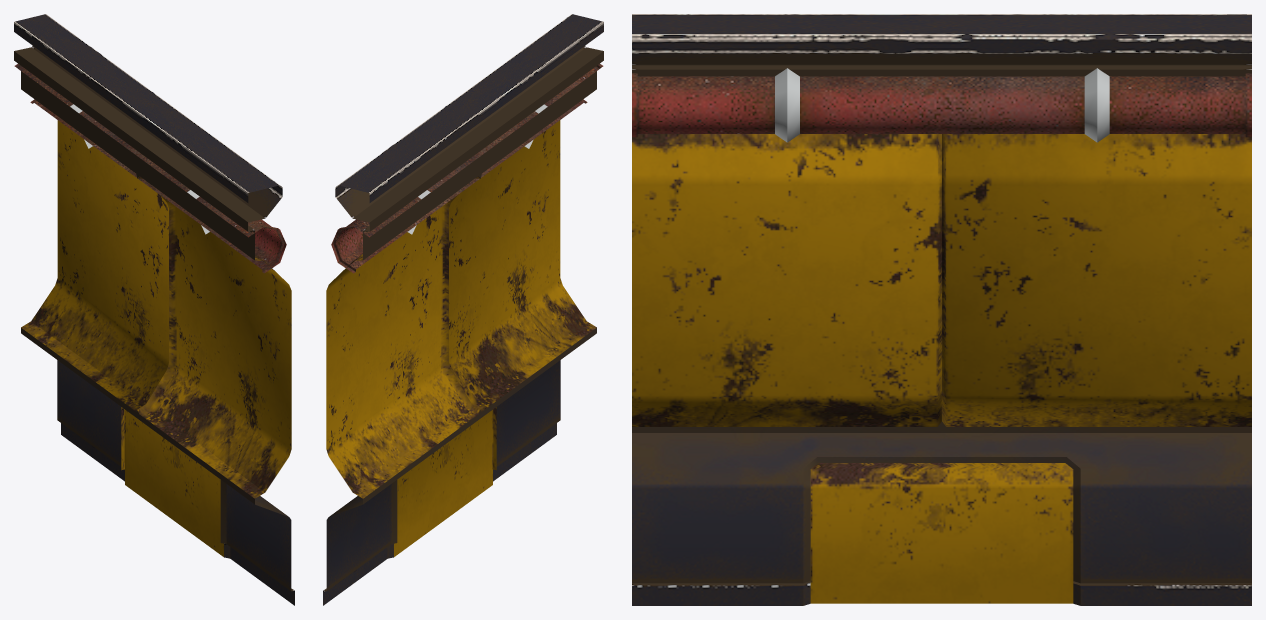
The model's file is Simplewallfinal.glb.
3 views of the same model, side by side, from view 1: azimuth 30°, elevation 25°; view 2: azimuth 150°, elevation 25°; view 3: azimuth 270°, elevation 25° (orthographic). The views are drawn at different scales.
Parts seen in each view (by area): view 1: Cube.005; view 2: Cube.005; view 3: Cube.005.
Boxes of the visible parts, left/top/right/bottom form: Cube.005: left=14, top=14, right=294, bottom=605; Cube.005: left=323, top=14, right=603, bottom=605; Cube.005: left=632, top=14, right=1251, bottom=605.
Bounding box in the file's own units: 0.4847 × 4 × 4.
4 materials, 4 textured.
